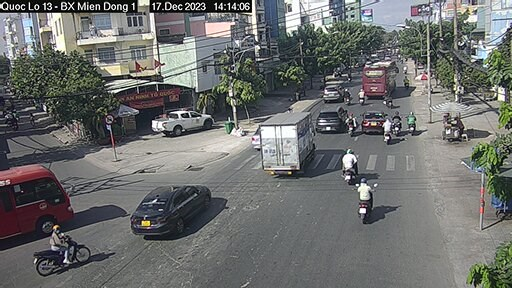bus: (364, 61, 398, 99)
car: (2, 165, 80, 235), (132, 185, 206, 234), (149, 110, 214, 135), (359, 108, 389, 135), (317, 105, 345, 131), (321, 84, 343, 100)
motorbike: (34, 226, 92, 274), (355, 181, 382, 225), (343, 149, 362, 182), (382, 117, 393, 145), (404, 112, 416, 135), (393, 110, 401, 135)
truck: (260, 113, 314, 173)
